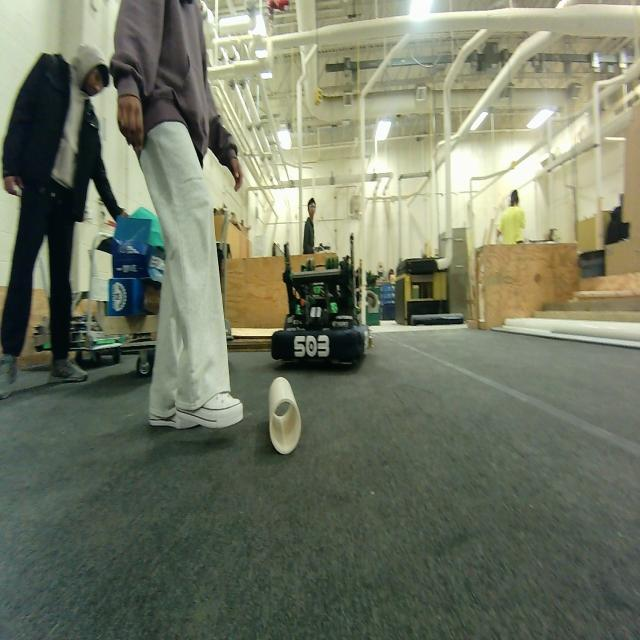coral: (265, 376, 305, 460)
